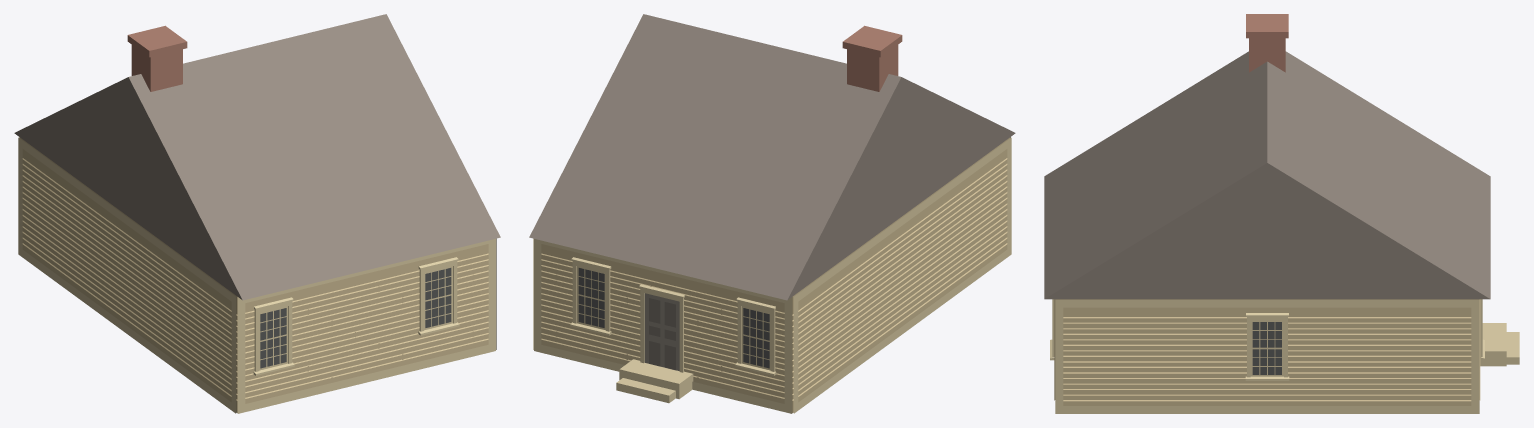
The model's file is recon_1835_south_d5_004__inferred_1835.glb.
3 renders of one model, left to right at view 1: azimuth 30°, elevation 25°; view 2: azimuth 150°, elevation 25°; view 3: azimuth 270°, elevation 25°, orthographic. The views are drawn at different scales.
Visible parts, largest first — view 1: recon_1835_south_d5_004__inferred_1835; view 2: recon_1835_south_d5_004__inferred_1835; view 3: recon_1835_south_d5_004__inferred_1835.
Boxes of the visible parts, <box> form: recon_1835_south_d5_004__inferred_1835: <box>14,14,500,413</box>; recon_1835_south_d5_004__inferred_1835: <box>529,14,1015,413</box>; recon_1835_south_d5_004__inferred_1835: <box>1044,14,1519,413</box>.
Bounding box in the file's own units: 6.84 × 7.13 × 10.93.
